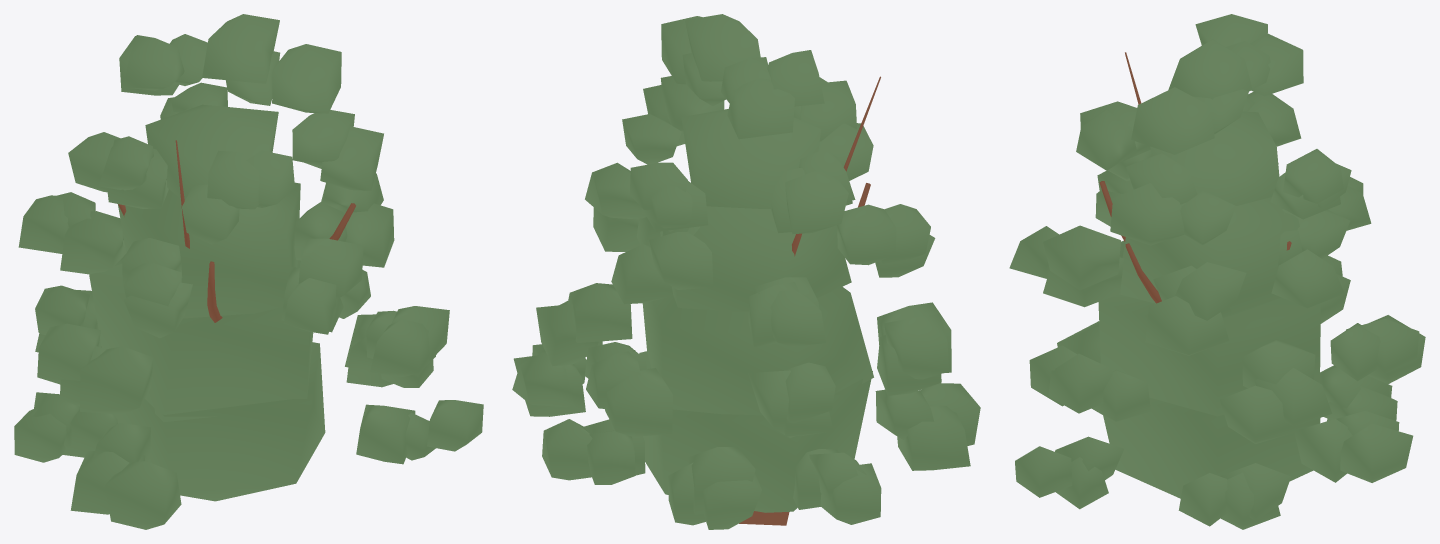
The model's file is Blender_WesternJuniper_2_Far.glb.
3 renders of one model, left to right at view 1: azimuth 30°, elevation 25°; view 2: azimuth 150°, elevation 25°; view 3: azimuth 270°, elevation 25°, orthographic. The views are drawn at different scales.
Parts seen in each view (by area): view 1: Blender_WesternJuniper_2_Far; view 2: Blender_WesternJuniper_2_Far; view 3: Blender_WesternJuniper_2_Far.
Part boxes in pixels (<box>): Blender_WesternJuniper_2_Far: <box>14,14,483,529</box>; Blender_WesternJuniper_2_Far: <box>512,14,980,529</box>; Blender_WesternJuniper_2_Far: <box>1009,14,1425,529</box>.
Bounding box in the file's own units: 6.69 × 7.64 × 6.06.
